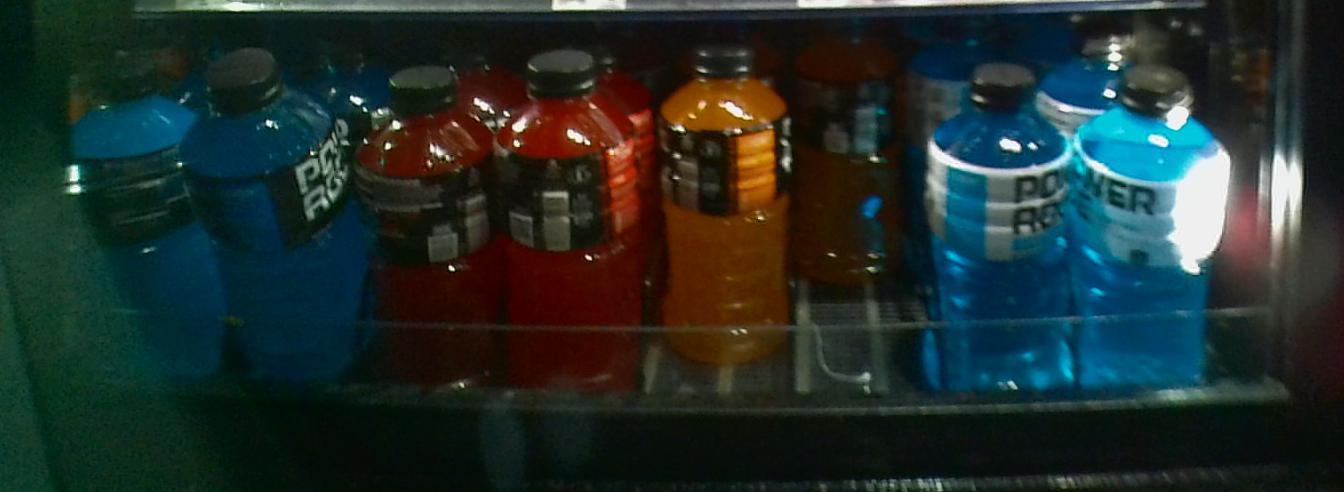bottle: (191, 56, 355, 380), (1075, 62, 1228, 387), (495, 55, 640, 392), (928, 66, 1070, 395), (657, 43, 791, 366), (359, 51, 488, 382), (68, 52, 187, 376), (796, 32, 898, 285)
